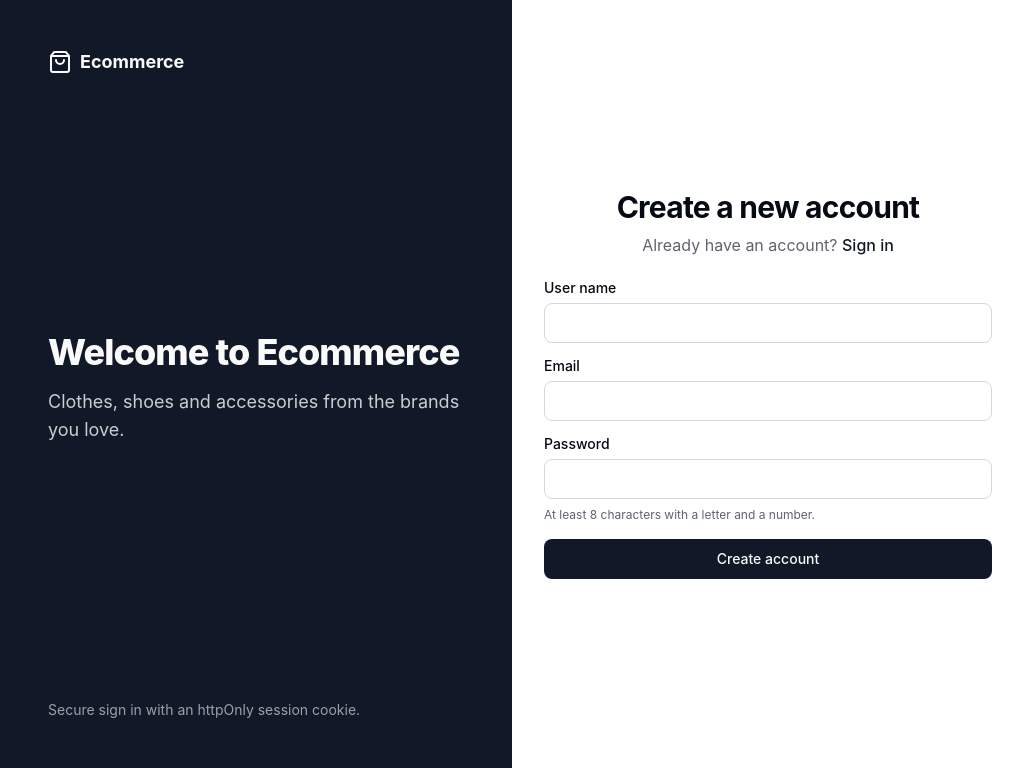
Test: auth and guards › shows server field errors from registration
Type "new_user" into the field labelled "User name" at (768, 323), box [544, 303, 992, 343]
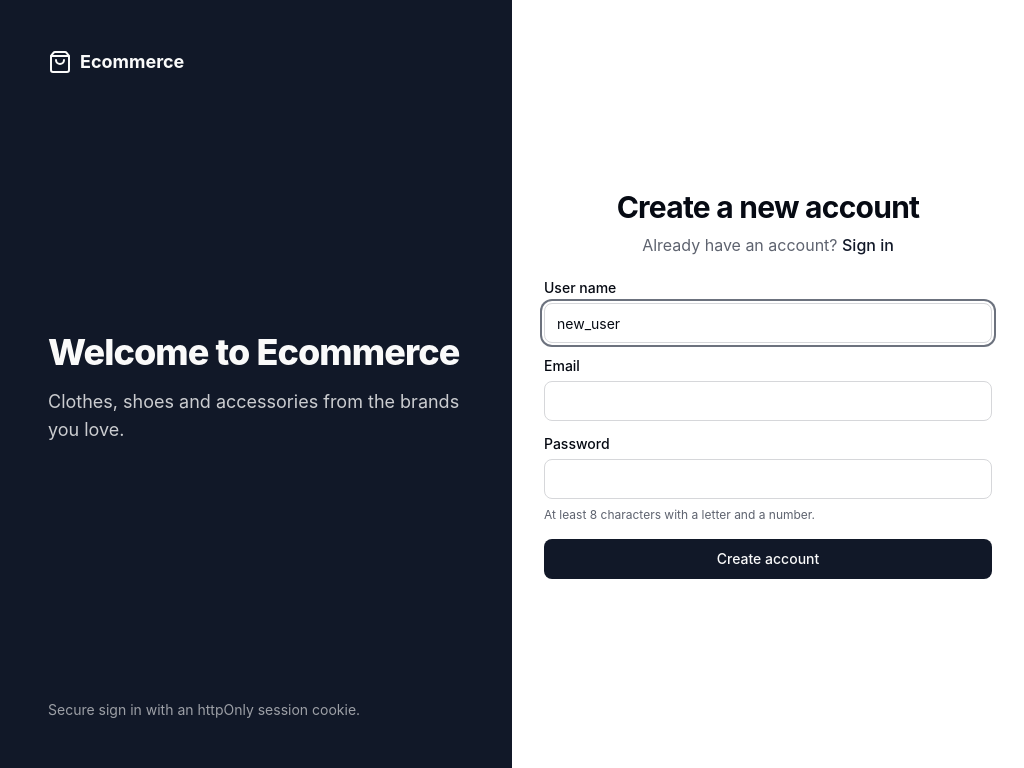
Type "taken@example.com" into the field labelled "Email" at (768, 401), box [544, 381, 992, 421]
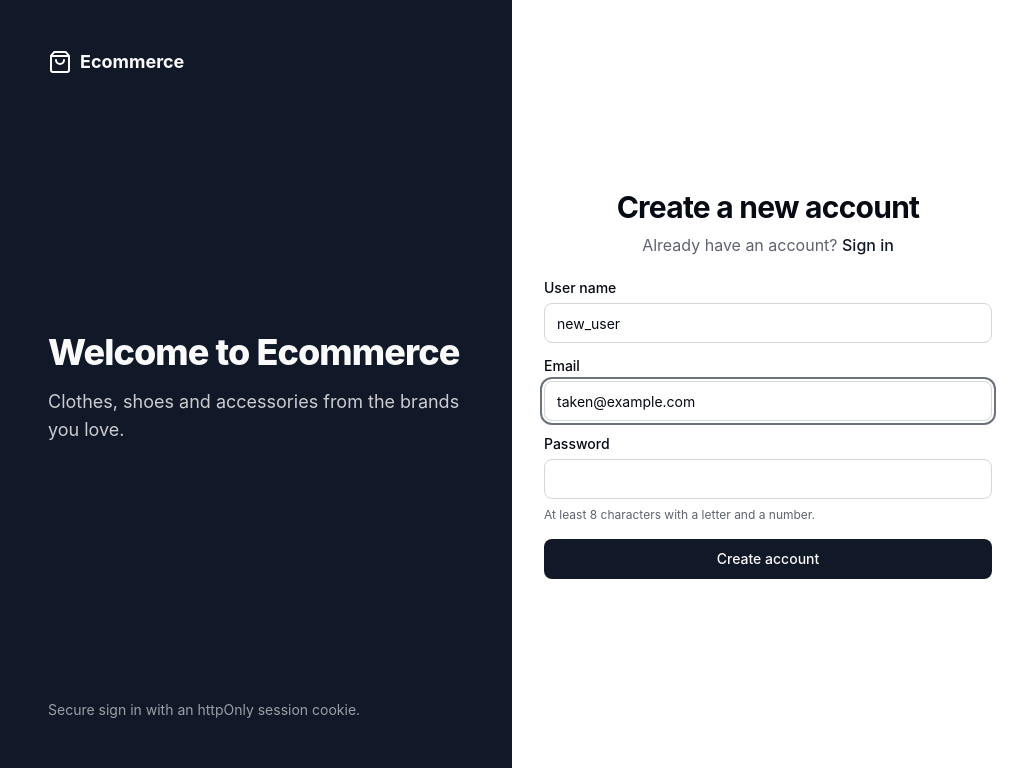
Type "Password123" into the password field labelled "Password" at (768, 479), box [544, 459, 992, 499]
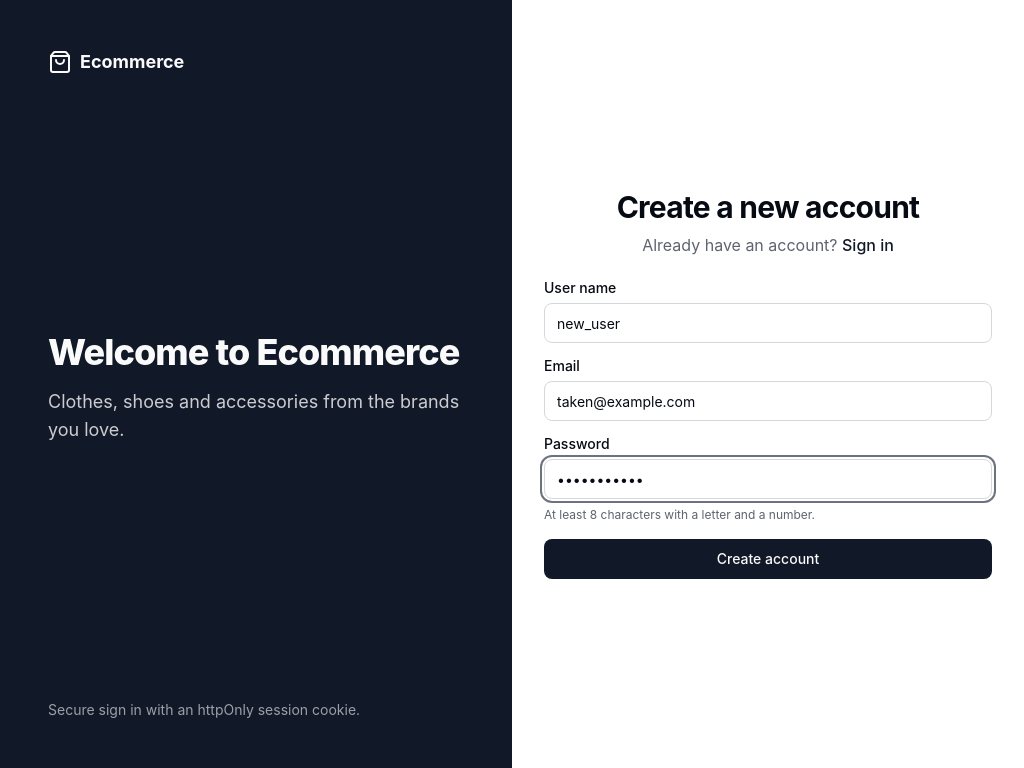
Click the button "Create account" at (768, 559), box [544, 539, 992, 579]
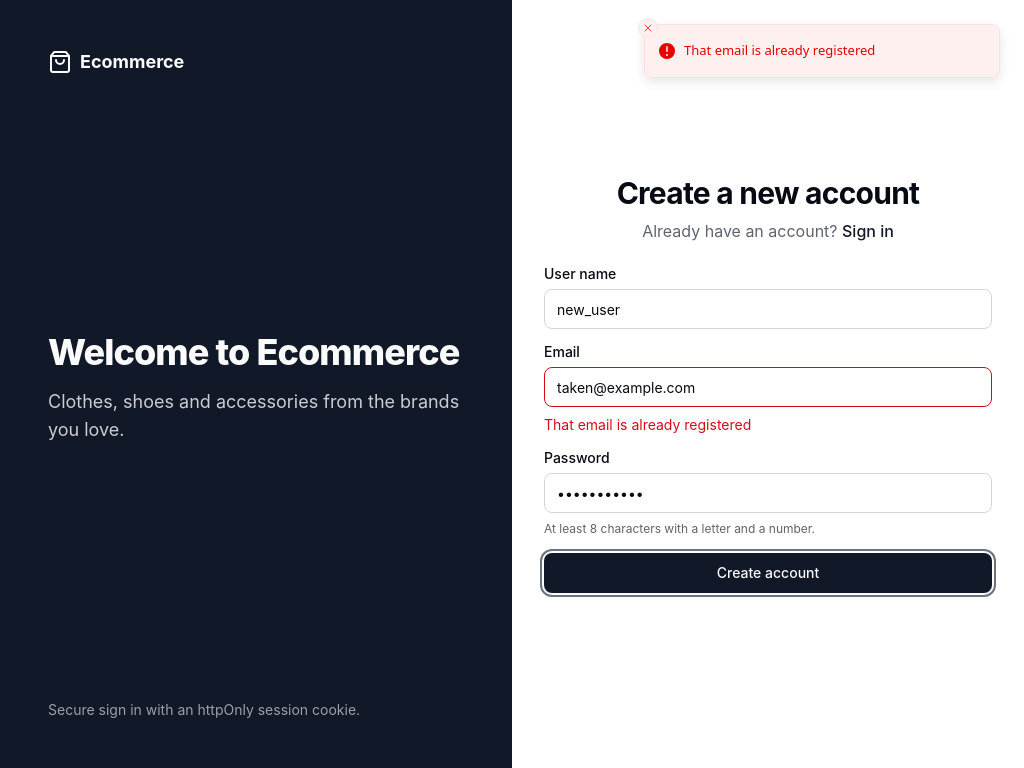
expect the message reads "That email is already registered": met, box [544, 416, 751, 433]
